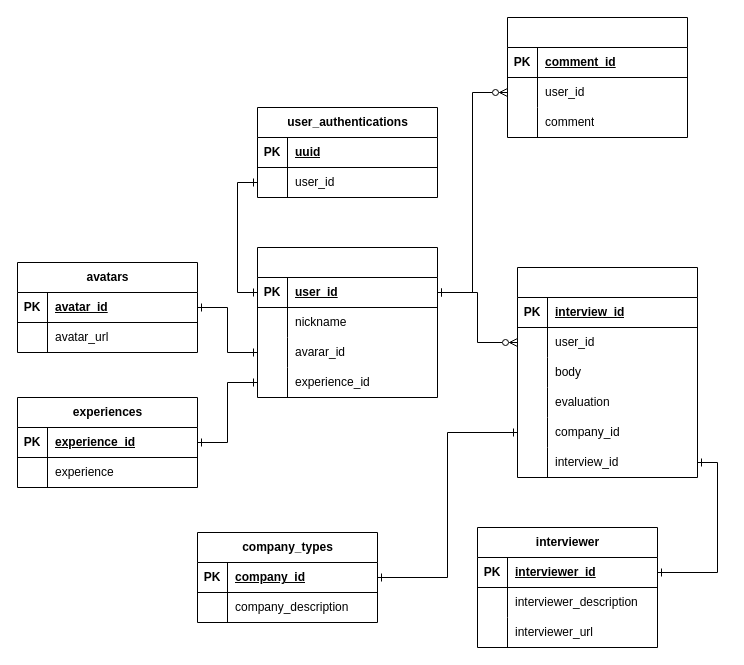
Some shapes in this 744 by 665 pixel diagram are drawn without their labels. The box of each missing label's shape, as (x1, y1, x2, y2) in pixels:
comments: (506, 16, 688, 138)
interview_logs: (516, 266, 698, 478)
users: (256, 246, 438, 398)
